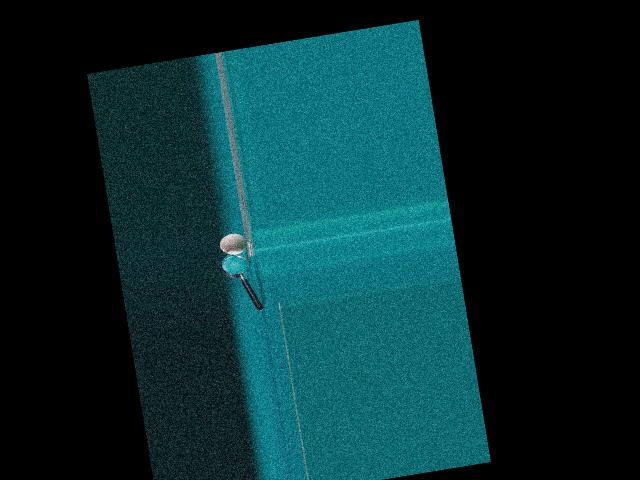egg: (218, 231, 248, 256)
